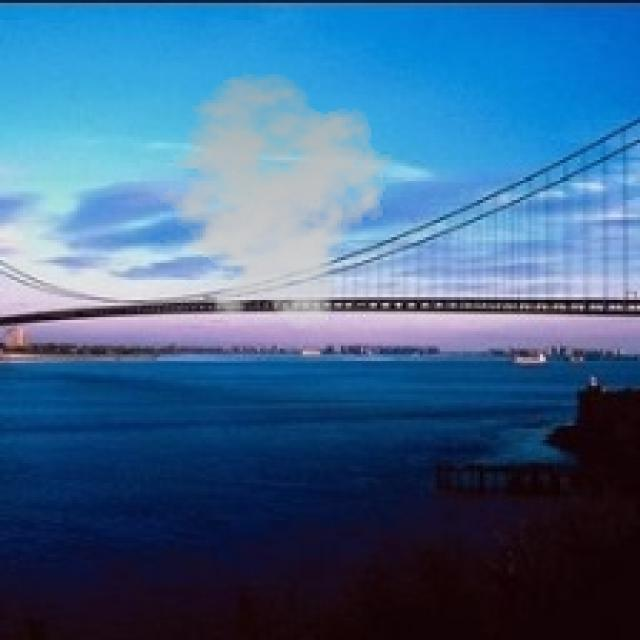smoke: (146, 71, 400, 332)
